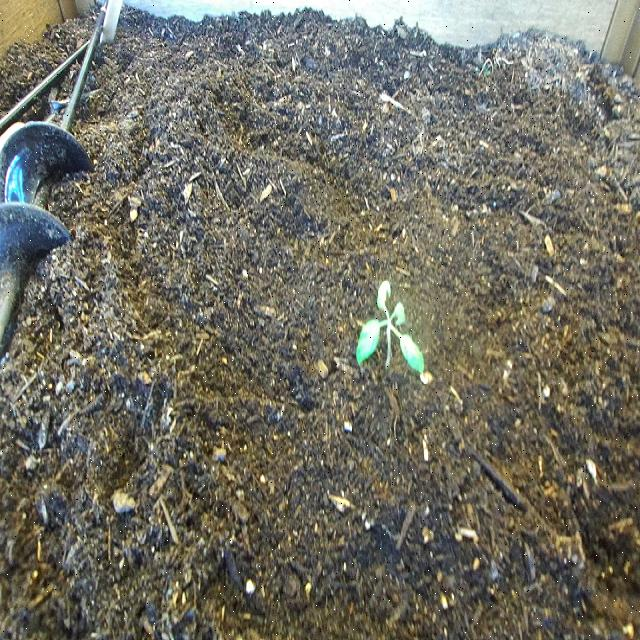Healthy: (348, 252, 438, 408)
